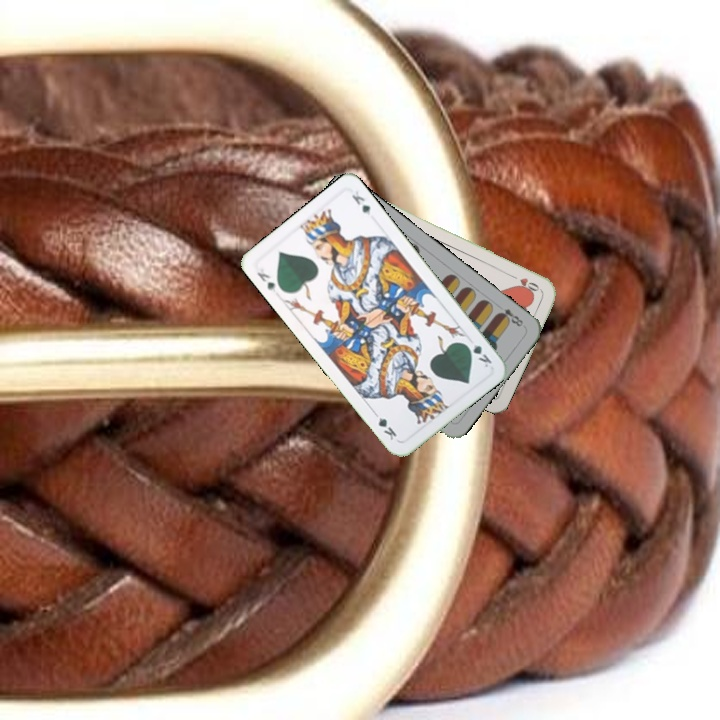E8: (493, 304, 526, 329)
GK: (461, 339, 494, 371), (253, 268, 279, 295)
HO: (506, 270, 544, 294)
